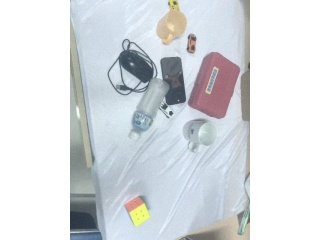bottle: (128, 76, 169, 142)
box: (188, 51, 241, 120)
cup: (182, 119, 218, 154), (155, 9, 187, 45)
mouse: (118, 50, 154, 84)
phone: (161, 56, 186, 106)
toy_car: (186, 33, 198, 54), (160, 104, 176, 119), (165, 1, 182, 11)
